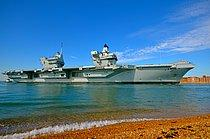MIL_Ship: (1, 41, 196, 84)
